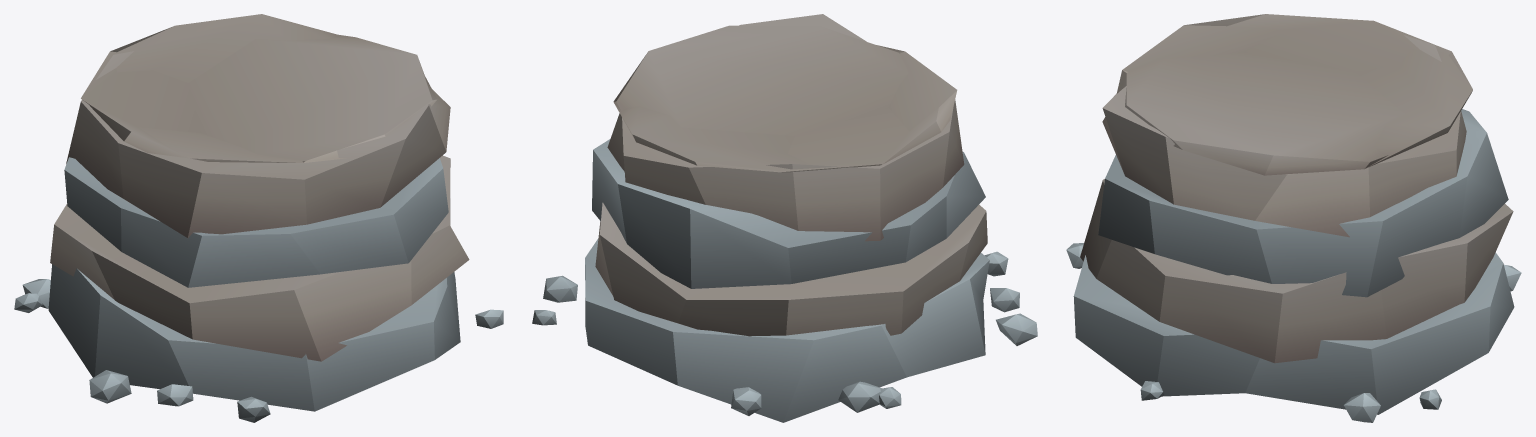
The model's file is mesa.glb.
3 renders of one model, left to right at view 1: azimuth 30°, elevation 25°; view 2: azimuth 150°, elevation 25°; view 3: azimuth 270°, elevation 25°, orthographic. The views are drawn at different scales.
Parts seen in each view (by area): view 1: mesa; view 2: mesa; view 3: mesa.
Part boxes in pixels (bbox=[...]): mesa: bbox=[14, 14, 503, 422]; mesa: bbox=[532, 14, 1037, 422]; mesa: bbox=[1066, 14, 1521, 422].
Bounding box in the file's own units: 22.85 × 12.72 × 20.76.
1 material, 1 textured.
